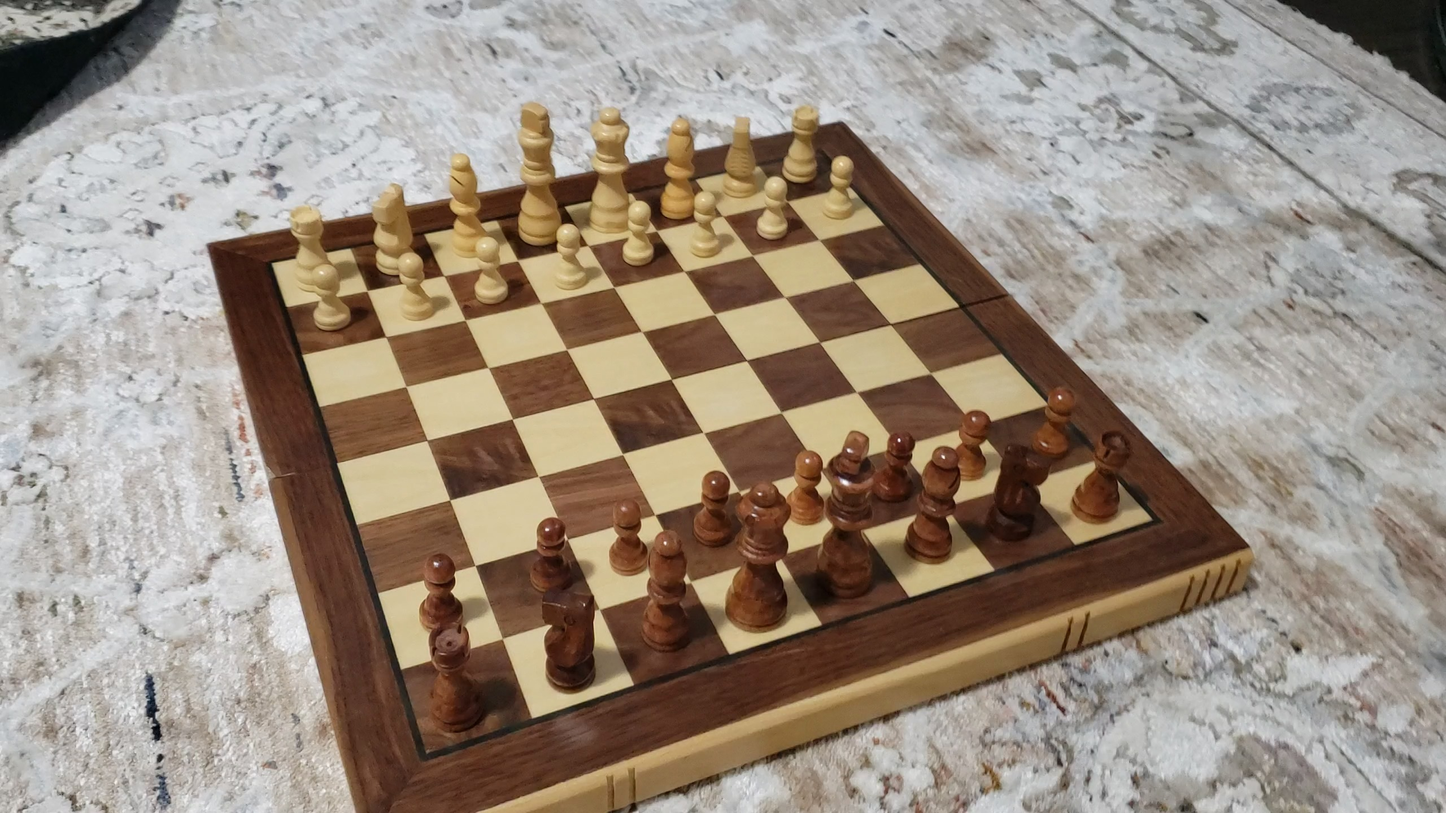black-bishop: (639, 527, 692, 652), (908, 445, 963, 564)
black-king: (814, 426, 882, 600)
black-knight: (536, 583, 600, 693), (986, 441, 1047, 543)
black-pawn: (416, 550, 468, 638), (526, 514, 575, 599), (1028, 382, 1079, 463), (693, 467, 741, 548), (607, 496, 648, 576), (877, 427, 919, 504), (786, 447, 826, 526), (952, 406, 994, 478)
black-queen: (724, 480, 795, 636)
black-rook: (424, 625, 487, 735), (1070, 430, 1135, 524)
white-bishop: (444, 149, 487, 259), (658, 111, 700, 222)
white-king: (513, 96, 560, 250)
white-knight: (358, 175, 428, 281), (720, 110, 759, 200)
white-pawn: (302, 259, 356, 336), (390, 248, 441, 326), (467, 234, 515, 310), (546, 221, 595, 295), (683, 186, 729, 264), (616, 195, 661, 272), (817, 151, 863, 225), (750, 172, 796, 246)
white-queen: (587, 100, 632, 235)
white-rook: (285, 202, 341, 295), (782, 99, 822, 187)
